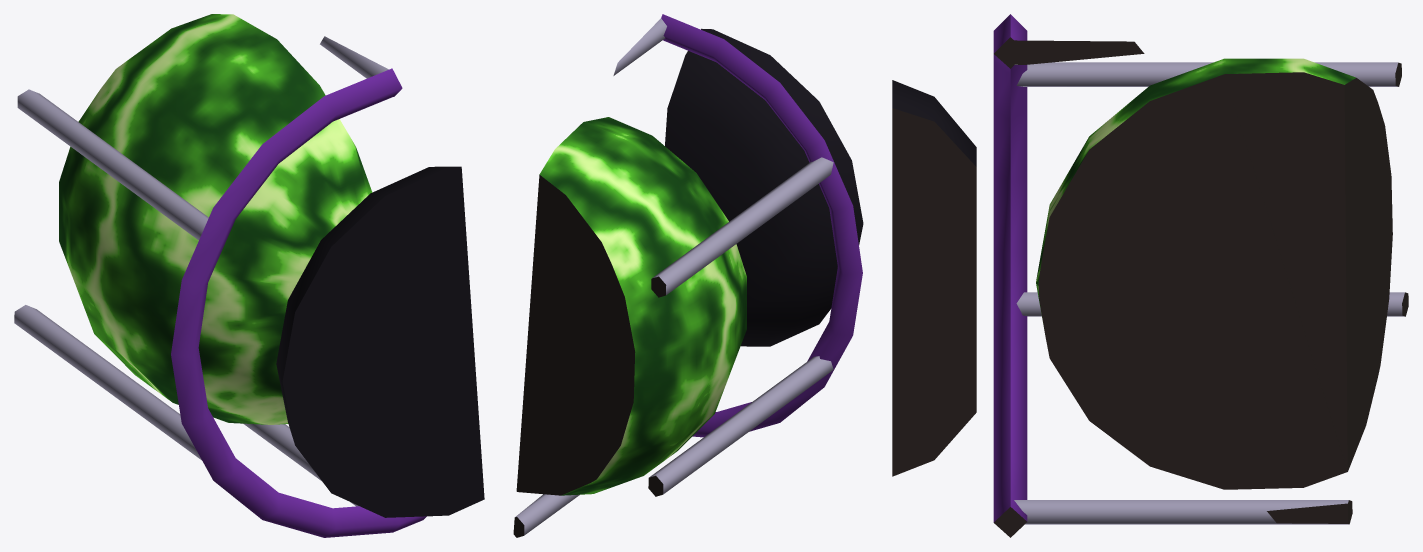
File: dominion_shield_pod_debris2.obj
3 renders of one model, left to right at view 1: azimuth 30°, elevation 25°; view 2: azimuth 150°, elevation 25°; view 3: azimuth 270°, elevation 25°, orthographic. The views are drawn at different scales.
Parts seen in each view (by area): view 1: core, collar, cage_ring, cage_bar; view 2: core, collar, cage_bar, cage_ring; view 3: core, collar, cage_bar, cage_ring.
Boxes of the visible parts, bbox=[...] form: core: bbox=[59, 14, 372, 424]; collar: bbox=[276, 166, 484, 517]; cage_ring: bbox=[171, 68, 426, 537]; cage_bar: bbox=[14, 36, 388, 506]; core: bbox=[516, 117, 746, 495]; collar: bbox=[665, 28, 863, 346]; cage_bar: bbox=[513, 18, 833, 537]; cage_ring: bbox=[661, 14, 862, 437]; core: bbox=[1036, 58, 1392, 489]; collar: bbox=[892, 80, 976, 476]; cage_bar: bbox=[1010, 40, 1408, 524]; cage_ring: bbox=[993, 14, 1027, 537].
Bounding box in the file's own units: 3.71 × 6.4 × 6.11.
Materials: 5 (1 with a texture image).
